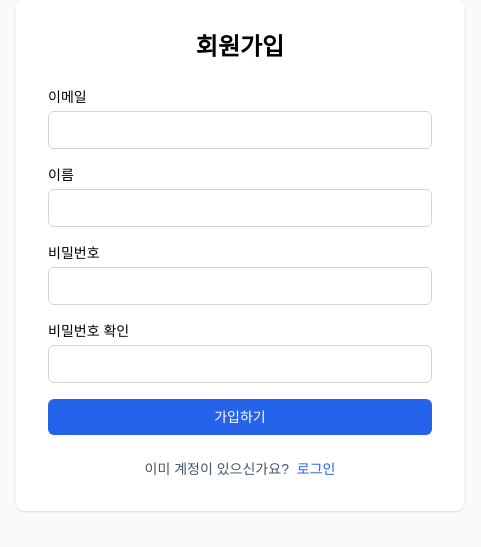
Test: RegisterView › 비밀번호 불일치 시 passwordMismatch 오류를 표시한다
Step 1. Type "test@example.com" into the field with id "reg-email" → coordinates (240, 130), box [48,111,432,149]
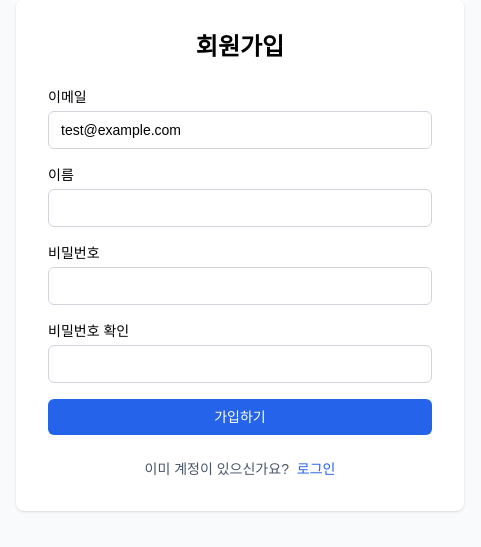
Step 2. Type "홍길동" into the field with id "reg-name" → coordinates (240, 208), box [48,189,432,227]
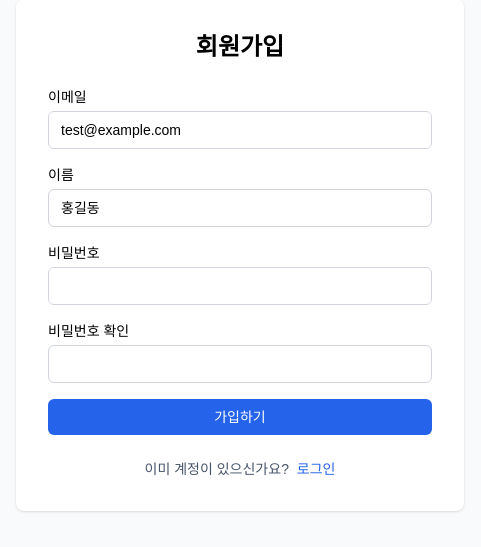
Step 3. Type "password123" into the password field with id "reg-password" → coordinates (240, 286), box [48,267,432,305]
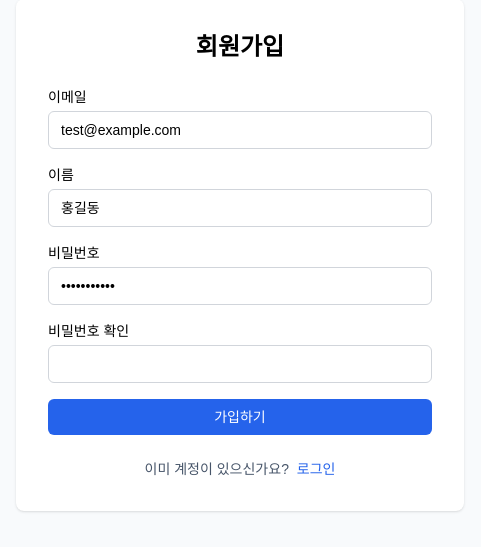
Step 4. Type "different123" into the password field with id "reg-password-confirm" → coordinates (240, 364), box [48,345,432,383]
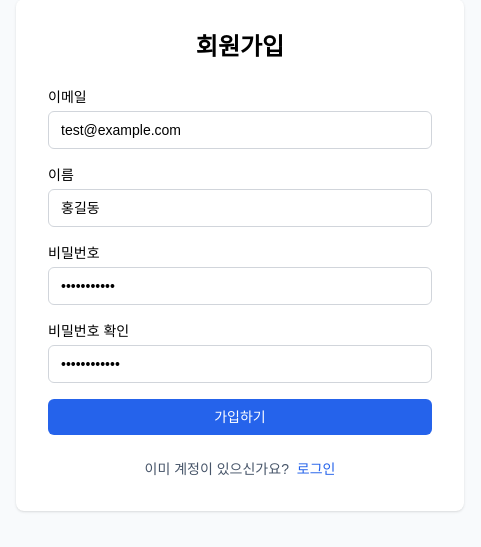
Step 5. Submit the form, box [48,87,432,435]
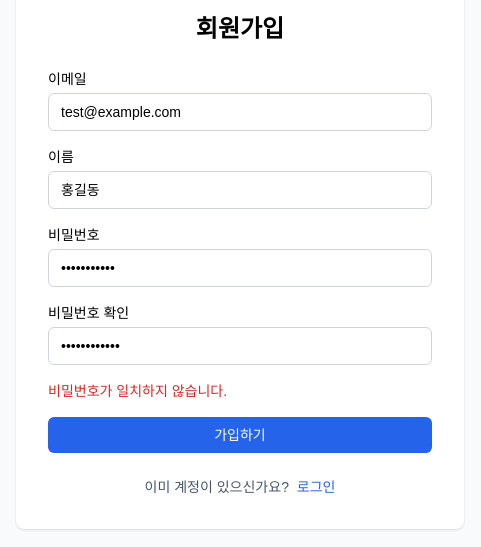
expect the message "비밀번호가 일치하지 않습니다." is shown: met, box [48,383,227,399]
